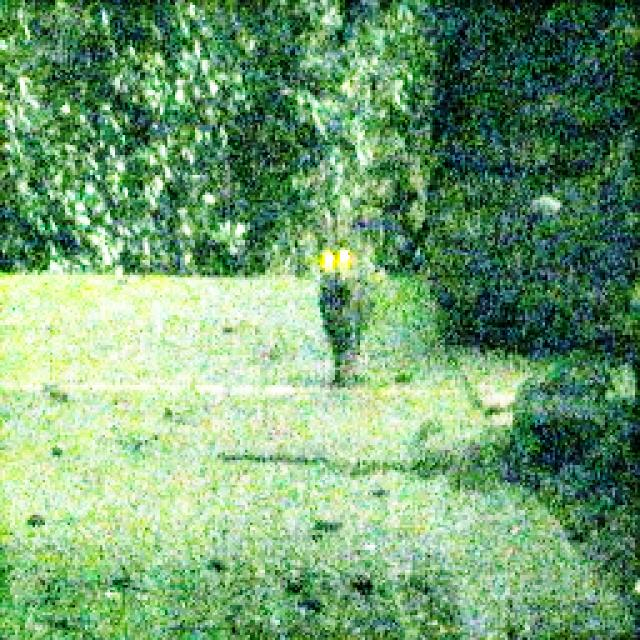cat: (314, 241, 376, 383)
